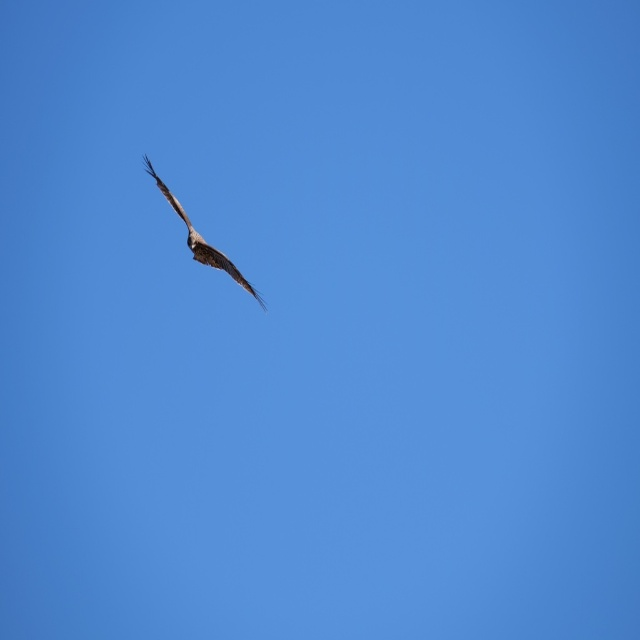Eagle: (142, 155, 266, 312)
